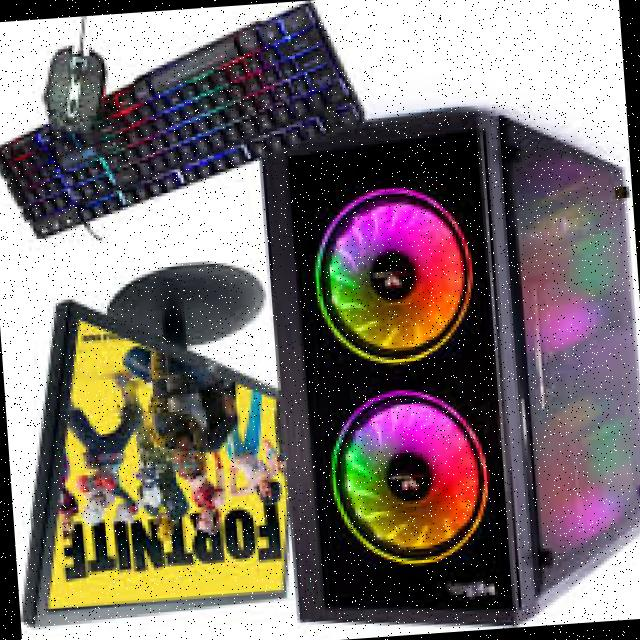Computer: (245, 83, 640, 640)
Monitor: (0, 236, 298, 640)
